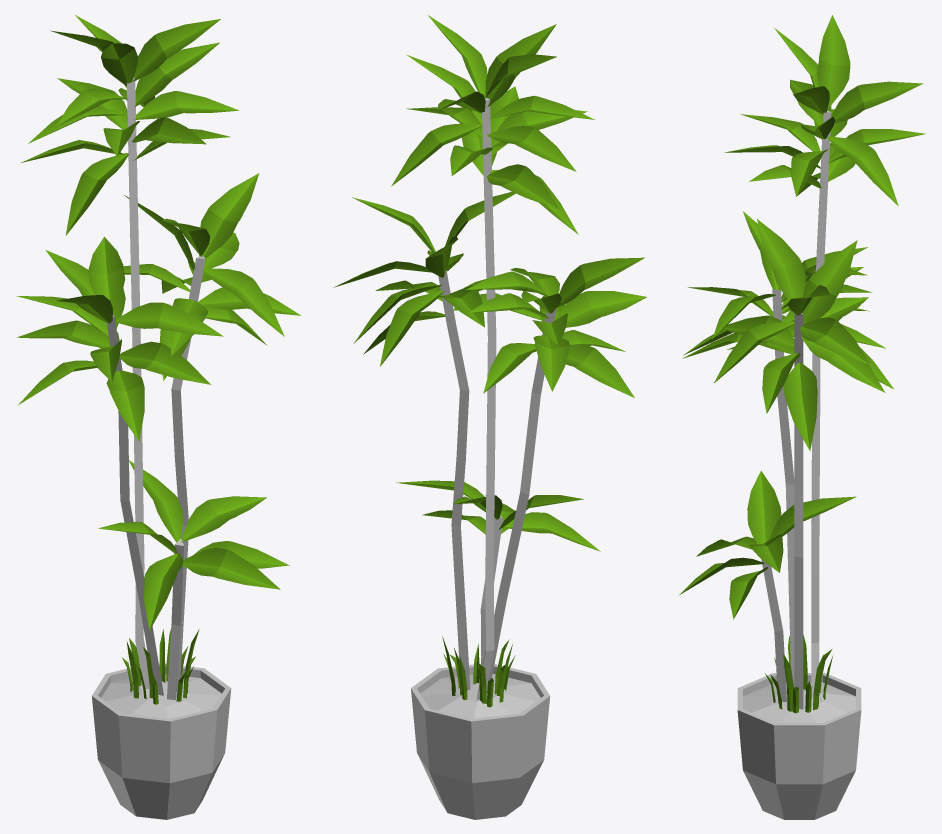
File: SM_PlantVase.fbx
3 renders of one model, left to right at view 1: azimuth 30°, elevation 25°; view 2: azimuth 150°, elevation 25°; view 3: azimuth 270°, elevation 25°, orthographic. The views are drawn at different scales.
Visible parts, largest first — view 1: SM_PlantVase; view 2: SM_PlantVase; view 3: SM_PlantVase.
Part boxes in pixels (x1,y1,x2,y2): SM_PlantVase: [16, 15, 300, 819]; SM_PlantVase: [333, 15, 646, 819]; SM_PlantVase: [679, 15, 925, 819].
Size of what is drawn, in the model's own units: 0.5599 by 1.53 by 0.4646.
